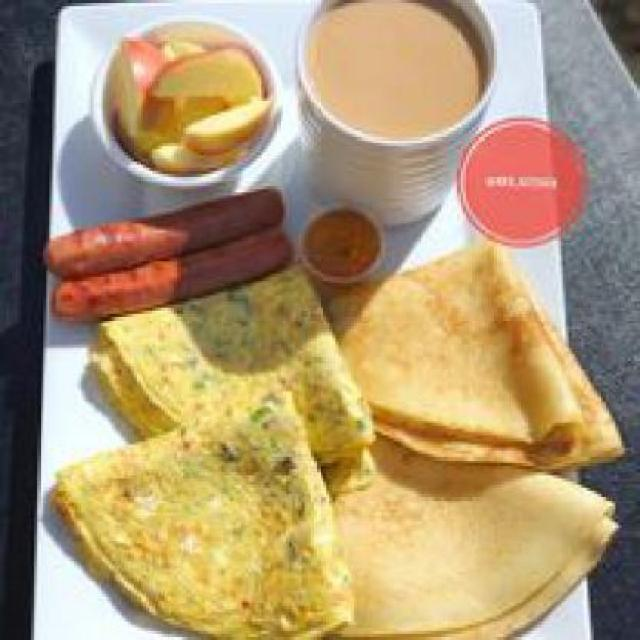hot dog: (34, 192, 292, 286)
omelette: (49, 295, 345, 628)
pancakes: (333, 248, 609, 624)
